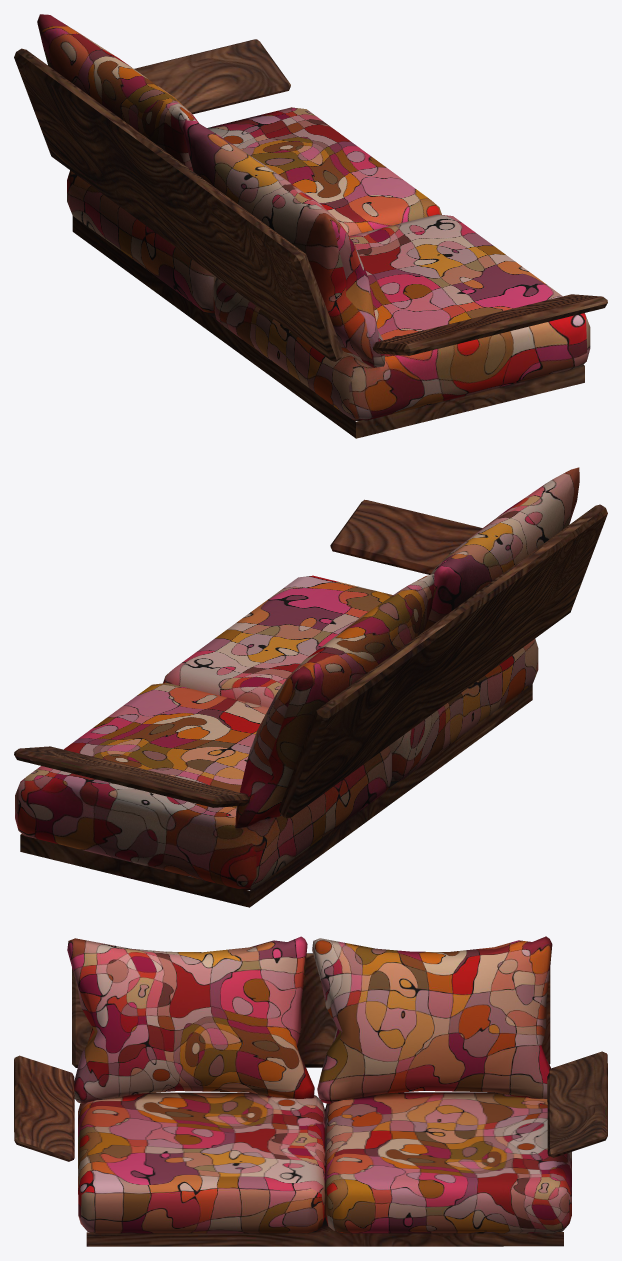
The model's file is couch_left.glb.
3 renders of one model, top to bottom at view 1: azimuth 30°, elevation 25°; view 2: azimuth 150°, elevation 25°; view 3: azimuth 270°, elevation 25°, orthographic. The views are drawn at different scales.
Visible parts, largest first — view 1: Cushions.001, Wood.005, Pillow.001; view 2: Cushions.001, Wood.005, Pillow.001; view 3: Pillow.001, Cushions.001, Wood.005.
Boxes of the visible parts, x1,y1,x2,y2 form: Cushions.001: [67, 107, 590, 420]; Wood.005: [14, 39, 607, 438]; Pillow.001: [37, 14, 384, 367]; Cushions.001: [15, 575, 538, 889]; Wood.005: [14, 499, 607, 907]; Pillow.001: [235, 467, 579, 827]; Pillow.001: [67, 936, 552, 1103]; Cushions.001: [78, 1092, 571, 1233]; Wood.005: [14, 953, 607, 1246].
Size of the model in its own units: 1.58 by 1.16 by 3.15.
Materials: 1 (1 with a texture image).
